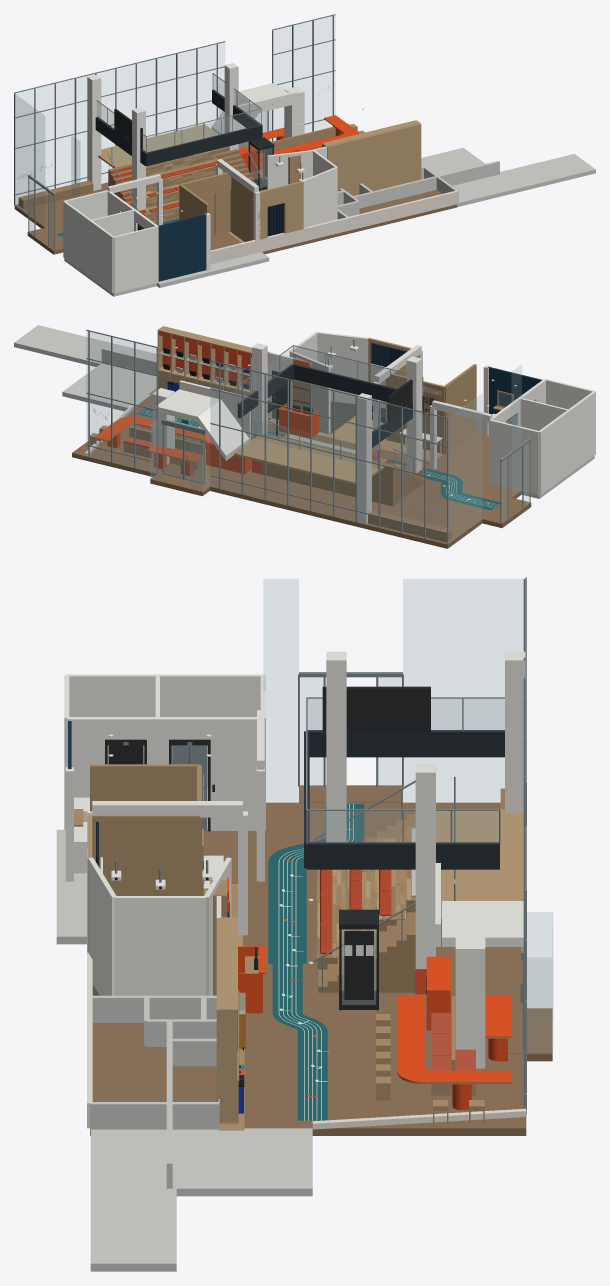
File: sorizieum-v17.glb
3 views of the same model, one above another, from view 1: azimuth 30°, elevation 25°; view 2: azimuth 150°, elevation 25°; view 3: azimuth 270°, elevation 25° (orthographic). The views are drawn at different scales.
Parts seen in each view (by area): view 1: Exterior glazing, Exterior glazing.001, PANORAMA_DISPLAY_CABINET, South cutaway wall, West glazing, EXISTING_LIFT_CORE_WEST_WALL, Main concrete floor, PHOTO_LIFT_BLUE_SIDEWALL, EXISTING_LIFT_CORE_RETURN, Gate C corridor, East service context, Unmeasured service partition.007 (+35 smaller); view 2: Exterior glazing, Main concrete floor, Exterior glazing.001, West glazing, EXISTING_LIFT_CORE_WEST_WALL, EXISTING_LIFT_CORE_RETURN.001, Gate C corridor, Upper landing, East service context, Existing white projection wall, EXISTING_OFFICE_WEST_TIMBER_WALL, Upper gallery handrail glass.001 (+61 smaller); view 3: Main concrete floor, West glazing, Gate C corridor, DECOR_FLOOR_CONTINUOUS, Existing white projection wall.001, EXISTING_LIFT_CORE_WEST_WALL, EXISTING_OFFICE_EAST_TIMBER_WALL, West glazing.001, East service context, Upper landing, Upper gallery handrail glass.002, Upper fascia 2 (+41 smaller).
Boxes of the visible parts, x1=… form: Exterior glazing: x1=16, y1=42, x2=224, y2=204; Exterior glazing.001: x1=273, y1=16, x2=335, y2=140; PANORAMA_DISPLAY_CABINET: x1=327, y1=123, x2=421, y2=195; South cutaway wall: x1=210, y1=190, x2=457, y2=264; West glazing: x1=15, y1=94, x2=45, y2=226; EXISTING_LIFT_CORE_WEST_WALL: x1=63, y1=201, x2=114, y2=293; Main concrete floor: x1=14, y1=124, x2=457, y2=254; PHOTO_LIFT_BLUE_SIDEWALL: x1=158, y1=214, x2=206, y2=281; EXISTING_LIFT_CORE_RETURN: x1=113, y1=226, x2=157, y2=293; Gate C corridor: x1=421, y1=147, x2=518, y2=206; East service context: x1=500, y1=154, x2=595, y2=191; Unmeasured service partition.007: x1=353, y1=161, x2=499, y2=208; Exterior glazing: x1=210, y1=361, x2=446, y2=543; Main concrete floor: x1=72, y1=395, x2=521, y2=548; Exterior glazing.001: x1=86, y1=331, x2=156, y2=471; West glazing: x1=448, y1=394, x2=482, y2=542; EXISTING_LIFT_CORE_WEST_WALL: x1=538, y1=391, x2=595, y2=494; EXISTING_LIFT_CORE_RETURN.001: x1=489, y1=419, x2=539, y2=495; Gate C corridor: x1=62, y1=346, x2=156, y2=411; Upper landing: x1=234, y1=435, x2=384, y2=484; East service context: x1=14, y1=325, x2=124, y2=366; Existing white projection wall: x1=316, y1=331, x2=368, y2=404; EXISTING_OFFICE_WEST_TIMBER_WALL: x1=444, y1=364, x2=476, y2=454; Upper gallery handrail glass.001: x1=294, y1=346, x2=406, y2=388; Main concrete floor: x1=90, y1=802, x2=526, y2=1135; West glazing: x1=403, y1=579, x2=523, y2=802; Gate C corridor: x1=90, y1=1128, x2=312, y2=1196; DECOR_FLOOR_CONTINUOUS: x1=268, y1=804, x2=364, y2=1120; Existing white projection wall.001: x1=114, y1=896, x2=206, y2=995; EXISTING_LIFT_CORE_WEST_WALL: x1=67, y1=674, x2=263, y2=787; EXISTING_OFFICE_EAST_TIMBER_WALL: x1=92, y1=815, x2=199, y2=895; West glazing.001: x1=263, y1=579, x2=298, y2=802; East service context: x1=90, y1=1188, x2=176, y2=1271; Upper landing: x1=436, y1=809, x2=523, y2=922; Upper gallery handrail glass.002: x1=307, y1=811, x2=498, y2=842; Upper fascia 2: x1=306, y1=842, x2=499, y2=869.
Bounding box in the file's own units: 26.62 × 6.04 × 11.68.
